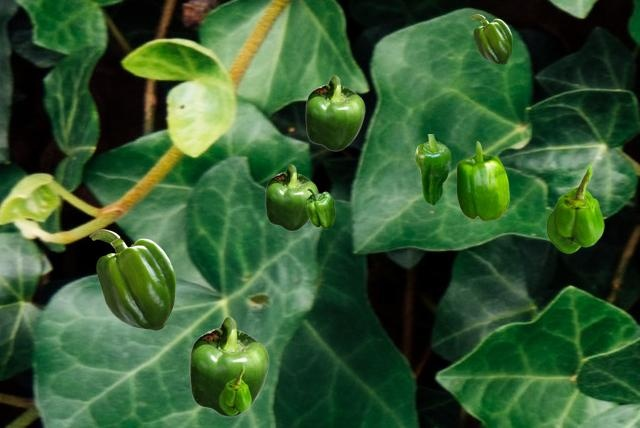bell_pepper: (89, 229, 174, 329), (189, 316, 268, 416), (546, 165, 603, 252), (305, 75, 364, 150), (456, 141, 508, 220), (265, 164, 317, 230), (415, 134, 450, 204), (470, 14, 511, 63), (219, 365, 250, 414), (305, 188, 334, 228)
